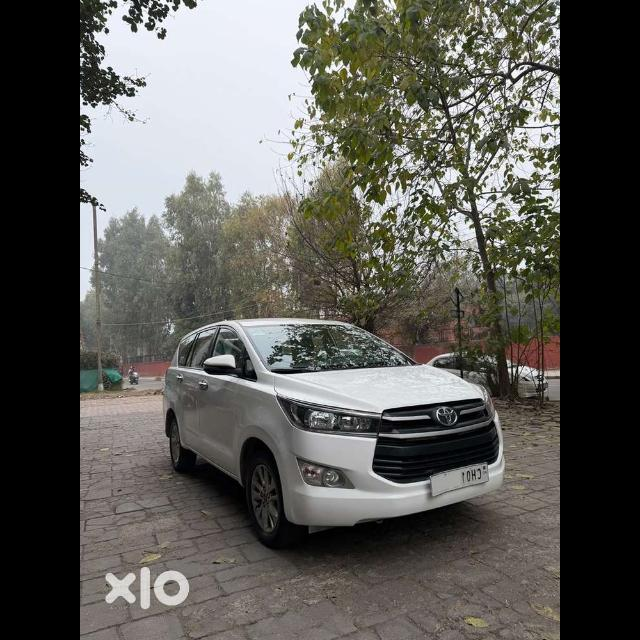number-plate: (420, 456, 491, 499)
vehicles: (153, 308, 510, 548)
